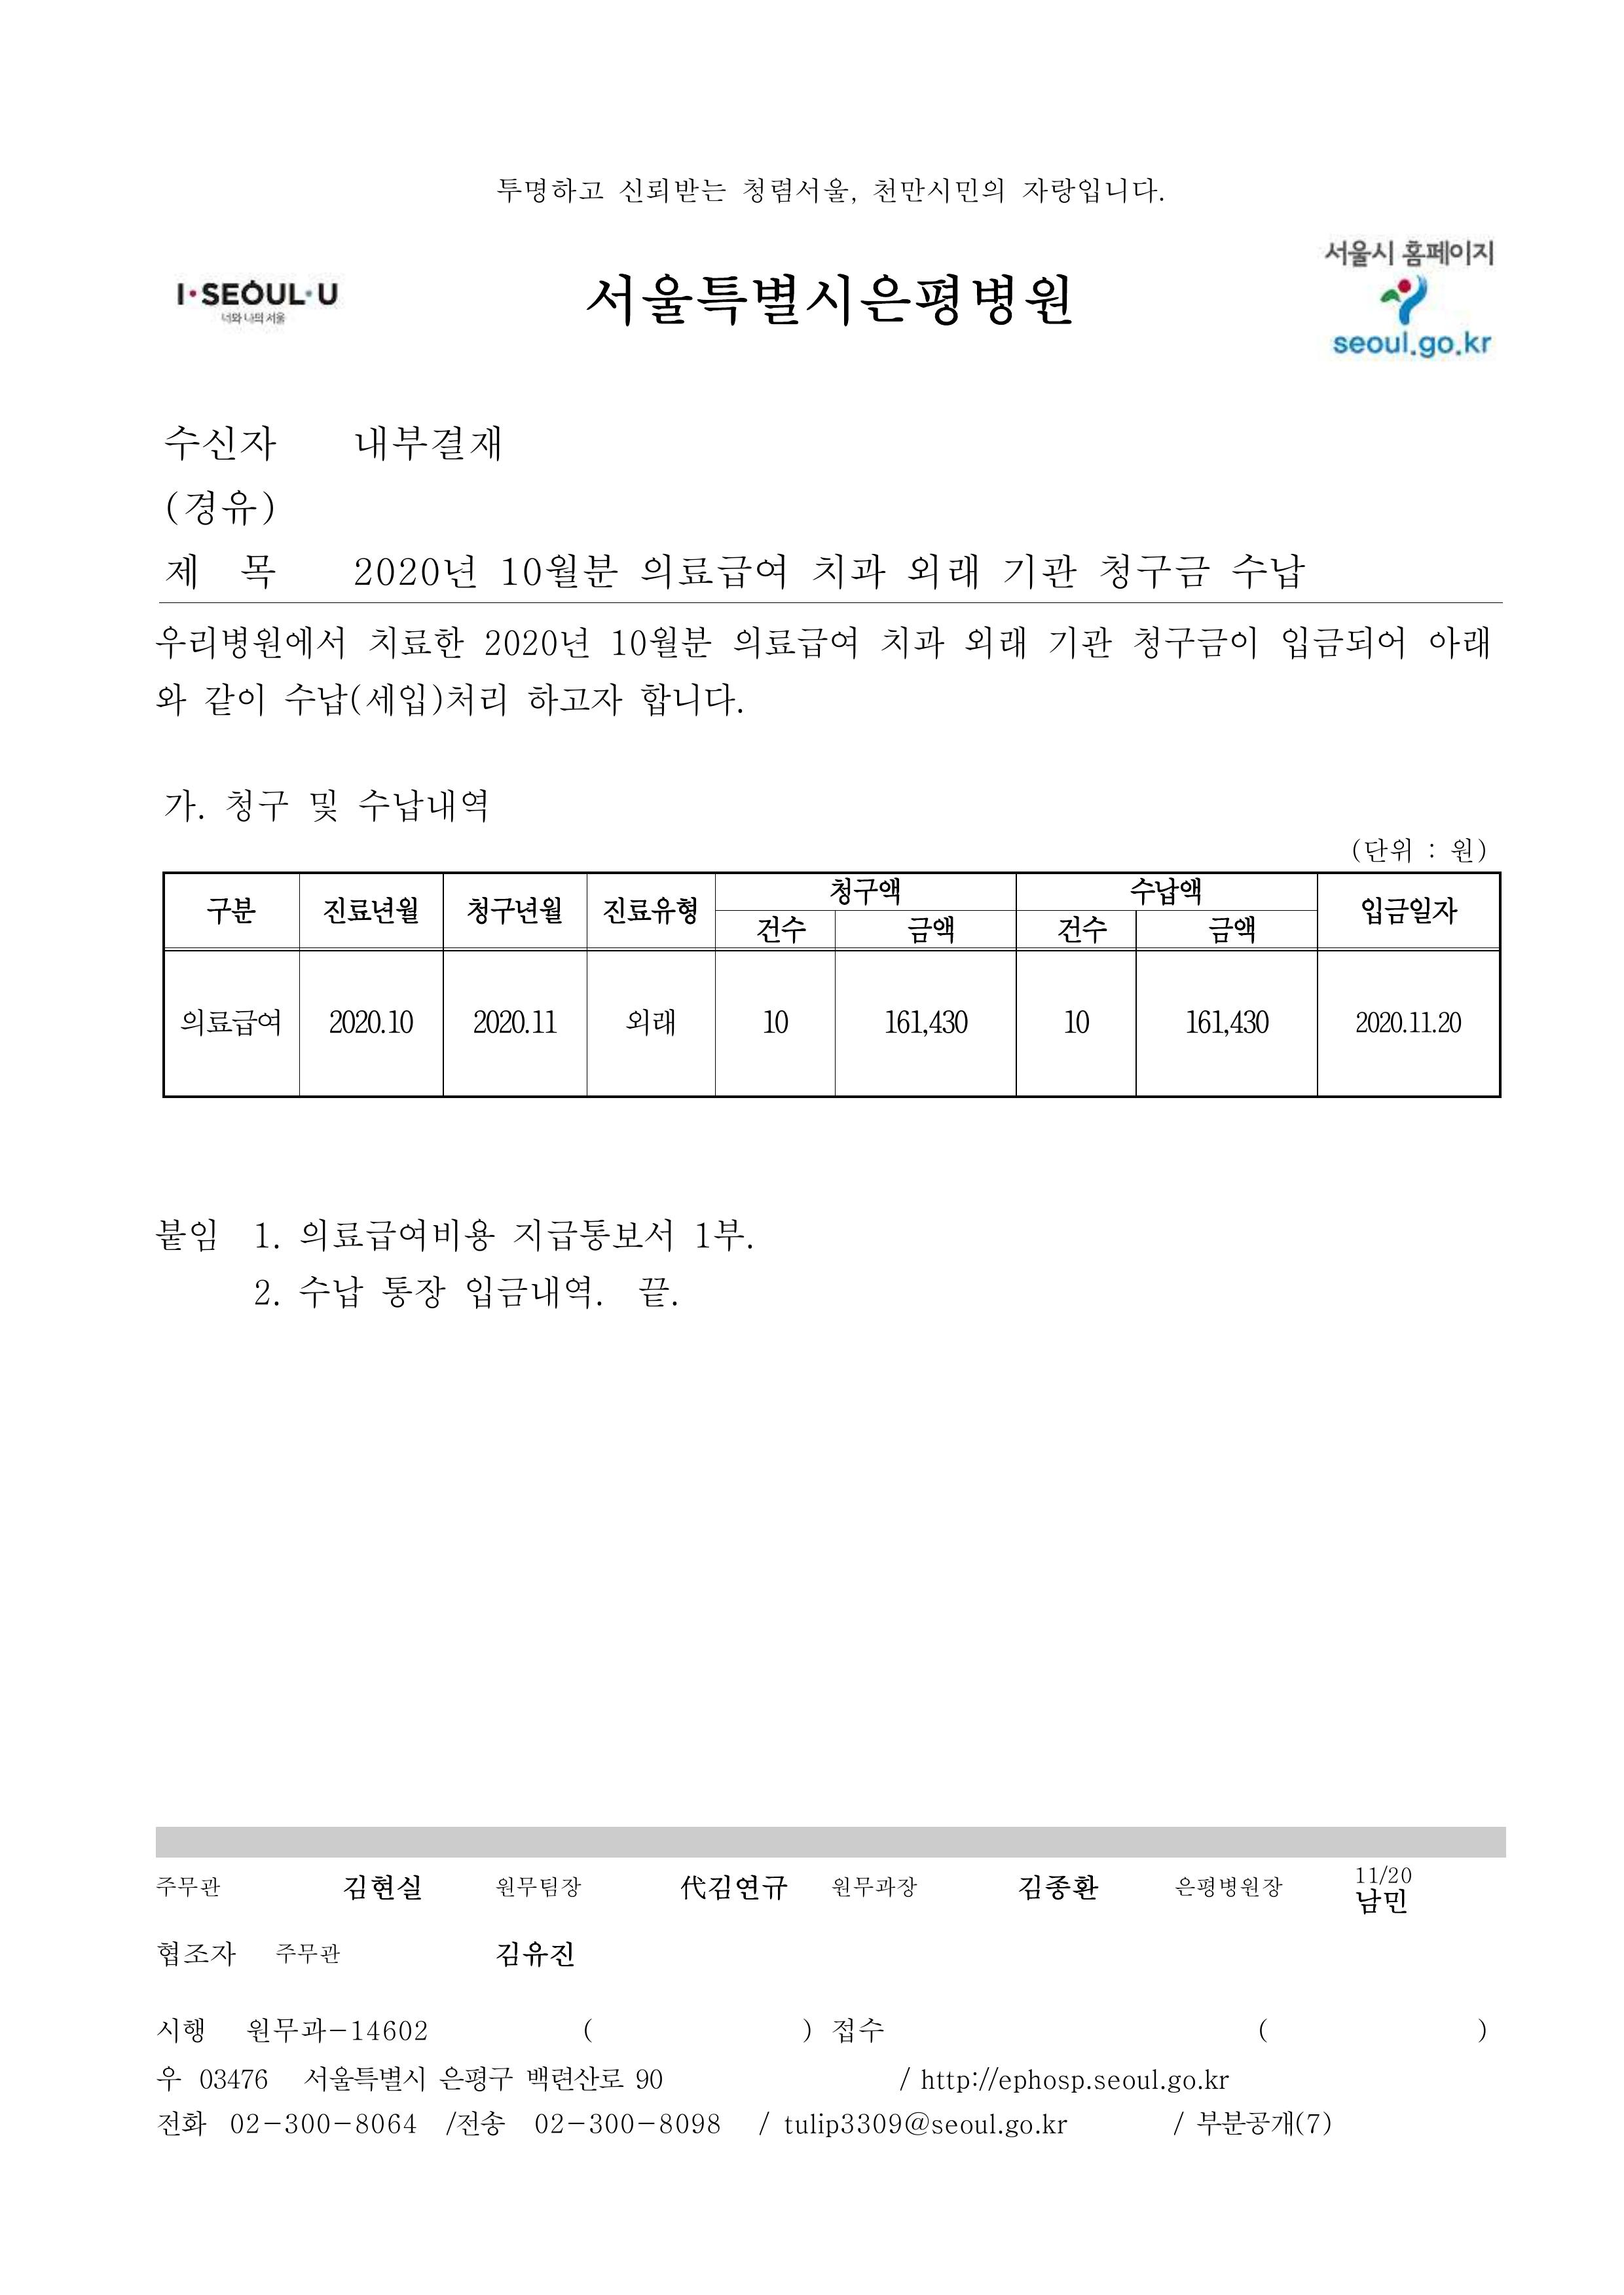t: (581, 265, 1075, 337), (283, 678, 509, 720), (157, 620, 348, 663), (297, 1215, 494, 1255), (351, 423, 506, 469), (781, 2112, 1007, 2140), (509, 1215, 674, 1255), (244, 2015, 430, 2047), (355, 785, 494, 828), (462, 1273, 602, 1315), (638, 552, 788, 591), (498, 548, 623, 595), (1278, 624, 1409, 669), (1094, 548, 1215, 595), (1130, 623, 1262, 667), (161, 487, 280, 534), (172, 276, 341, 308), (1018, 172, 1162, 208), (731, 623, 860, 663), (164, 423, 283, 466), (868, 172, 1007, 208), (351, 552, 477, 591), (1194, 2102, 1335, 2137), (222, 785, 341, 824), (606, 620, 713, 663), (638, 678, 746, 720), (480, 623, 591, 663), (921, 2068, 1086, 2094), (301, 2062, 430, 2094), (613, 172, 728, 208), (739, 172, 853, 208), (493, 175, 605, 211), (523, 681, 623, 720), (1226, 548, 1308, 595), (179, 1004, 283, 1040), (678, 1871, 788, 1904), (365, 623, 466, 659), (319, 892, 419, 928), (462, 892, 563, 928), (599, 892, 699, 928), (1359, 892, 1459, 928), (1000, 552, 1082, 595), (810, 552, 889, 595), (1090, 2065, 1206, 2093), (1398, 236, 1499, 268), (523, 2062, 623, 2094), (229, 2112, 355, 2137), (1352, 1007, 1463, 1036), (1172, 1871, 1283, 1900), (878, 623, 950, 667), (297, 1273, 369, 1315), (380, 1273, 452, 1315), (878, 1004, 972, 1036), (1179, 1004, 1273, 1036), (154, 1936, 236, 1972), (907, 552, 982, 591), (200, 681, 268, 724), (154, 1215, 222, 1258), (326, 1004, 416, 1036), (470, 1004, 559, 1036), (1014, 1871, 1101, 1904), (491, 1936, 577, 1968), (1319, 236, 1395, 272), (341, 1871, 423, 1904), (1043, 623, 1115, 659), (824, 875, 904, 907), (437, 2062, 516, 2094), (961, 623, 1029, 659), (1424, 623, 1492, 659), (197, 2062, 272, 2094), (688, 1215, 749, 1255), (1130, 875, 1201, 907), (1330, 333, 1420, 358), (494, 1875, 581, 1900), (832, 1875, 918, 1900), (822, 2015, 884, 2050), (1344, 835, 1416, 864), (1054, 911, 1111, 946), (154, 1871, 222, 1900), (351, 2108, 419, 2137), (656, 2108, 724, 2137), (445, 2108, 506, 2140), (151, 2109, 206, 2143), (1352, 1886, 1409, 1918), (204, 892, 254, 928), (276, 1939, 344, 1965), (588, 2112, 656, 2137), (753, 911, 807, 943), (635, 1273, 678, 1312), (161, 788, 208, 824), (907, 914, 957, 946), (623, 1007, 678, 1036), (164, 552, 204, 588), (236, 552, 276, 588), (154, 681, 193, 717), (534, 2112, 588, 2137), (1416, 333, 1463, 362), (1212, 918, 1259, 946), (157, 2019, 208, 2044), (756, 1004, 792, 1036), (1058, 1004, 1094, 1036), (1352, 1868, 1412, 1886), (251, 1219, 283, 1251), (1459, 329, 1495, 355), (1452, 839, 1488, 864), (635, 2068, 667, 2094), (1201, 2068, 1233, 2094), (1004, 2116, 1036, 2140), (1040, 2116, 1072, 2137), (254, 1280, 276, 1308), (800, 2019, 821, 2044), (161, 2065, 183, 2090)
